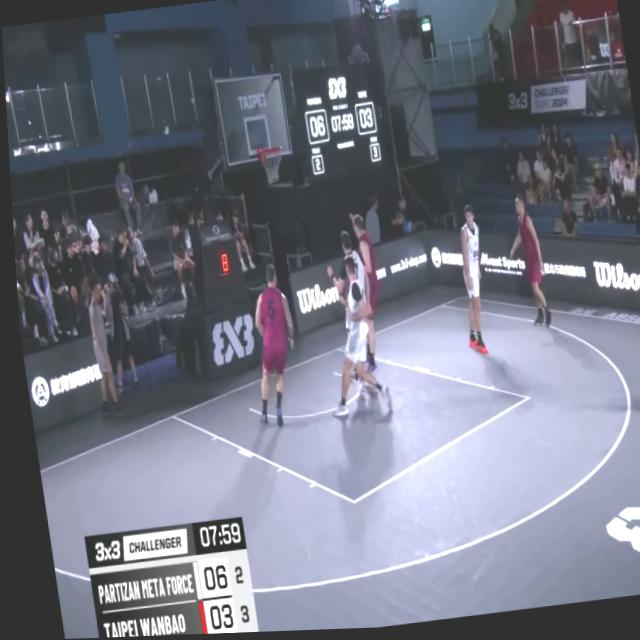hoop: (251, 140, 287, 189)
player: (305, 253, 388, 421), (233, 254, 302, 432), (316, 230, 380, 398), (330, 206, 388, 379), (443, 203, 493, 362), (498, 189, 551, 337)
